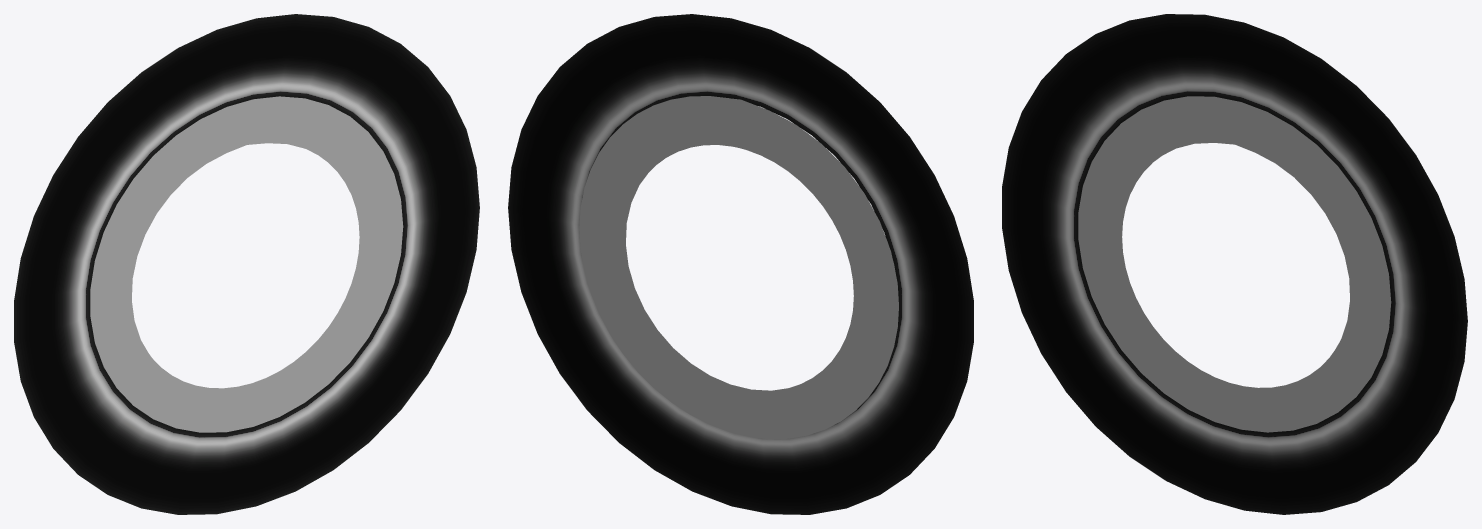
Rendered from pref_fxui_swiscore_pokeball_rate_02.fbx.
3 views of the same model, side by side, from view 1: azimuth 30°, elevation 25°; view 2: azimuth 150°, elevation 25°; view 3: azimuth 330°, elevation 25° (orthographic).
Parts seen in each view (by area): view 1: ring2, InterPercentRing, Ring_bg; view 2: ring2, Ring_bg, InterPercentRing; view 3: ring2, InterPercentRing, Ring_bg.
Part boxes in pixels (left/top/right/bottom): ring2: left=14, top=14, right=479, bottom=514; InterPercentRing: left=90, top=96, right=403, bottom=432; Ring_bg: left=116, top=96, right=361, bottom=390; ring2: left=508, top=14, right=973, bottom=514; Ring_bg: left=579, top=96, right=898, bottom=439; InterPercentRing: left=625, top=98, right=897, bottom=390; ring2: left=1002, top=14, right=1467, bottom=514; InterPercentRing: left=1078, top=96, right=1391, bottom=432; Ring_bg: left=1091, top=96, right=1333, bottom=390.
Size of the model in its own units: 149 by 149 by 0.995.
